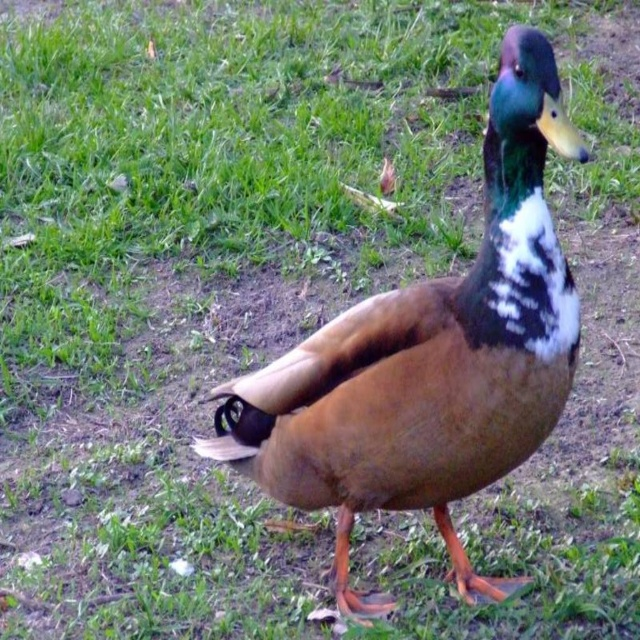Duck: (187, 27, 597, 635)
